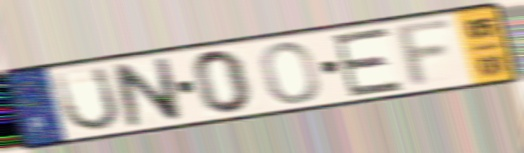0: (189, 48, 256, 117)
E: (329, 24, 406, 99)
F: (393, 15, 458, 92)
N: (109, 55, 185, 130)
O: (258, 40, 323, 106)
U: (50, 63, 123, 134)
